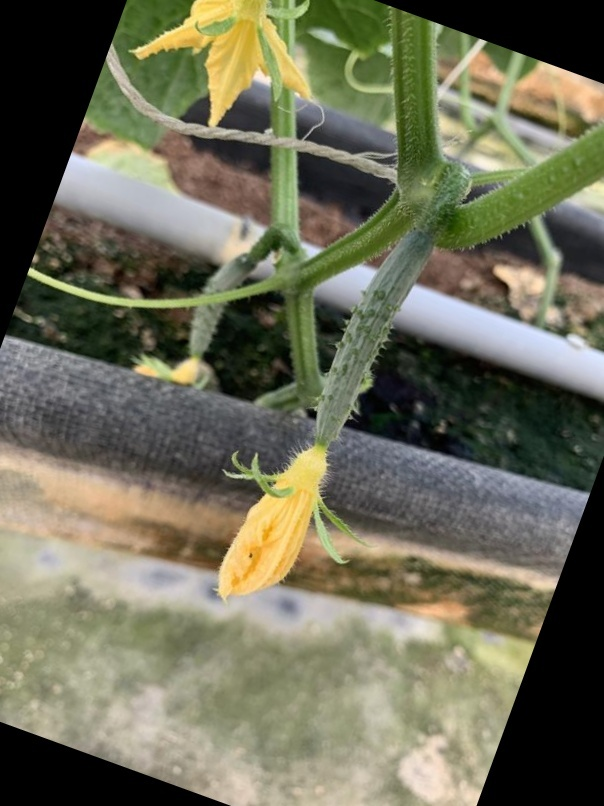bear: (223, 213, 448, 583)
